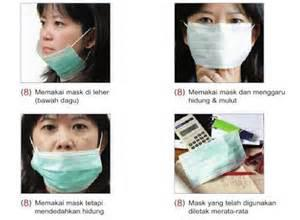OK: (189, 9, 253, 71)
WRONG: (35, 115, 103, 186), (35, 17, 89, 73)
